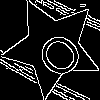O: (27, 22, 88, 83)
